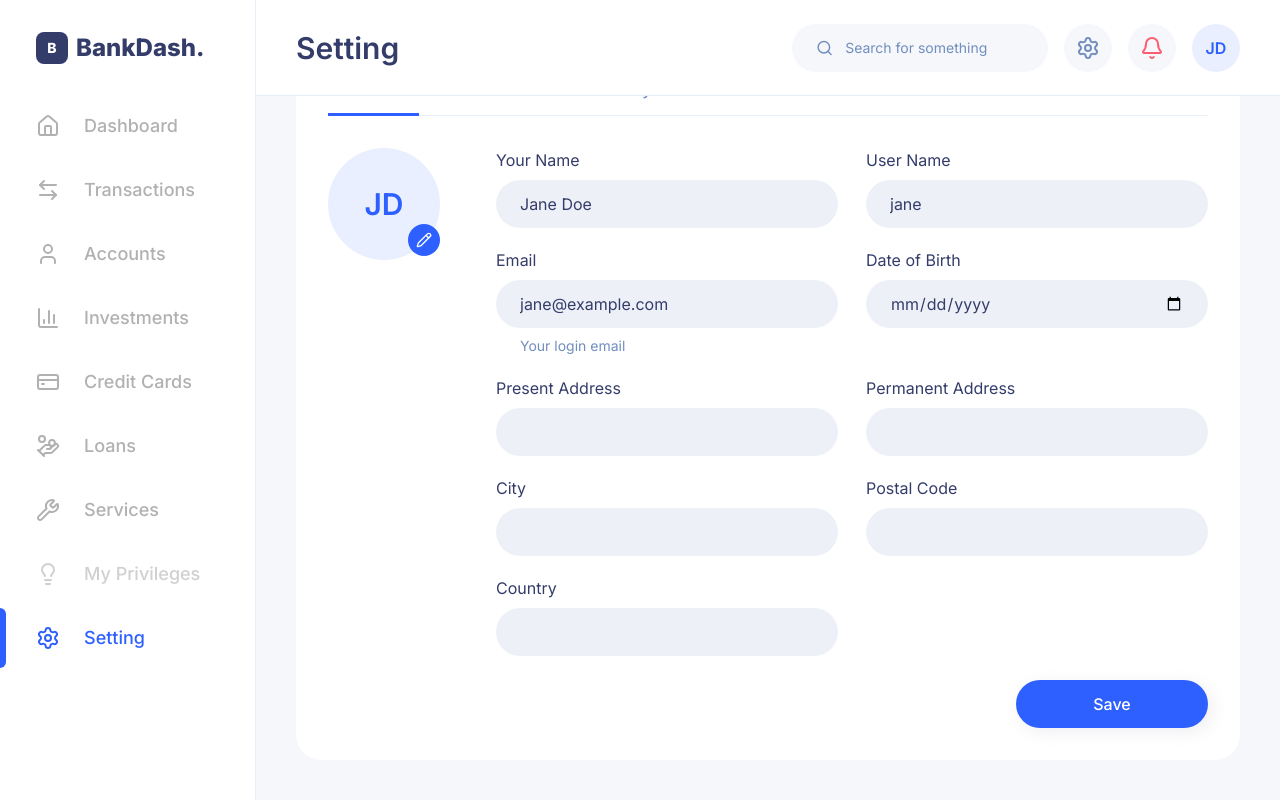
Test case: Settings › Edit Profile › shows a taken username next to the field
(page scrolled)
Expected: the field labelled "User Name" is shown, [866,180,1208,228]
Click the button "Save" at (1112, 704), box [1016,680,1208,728]
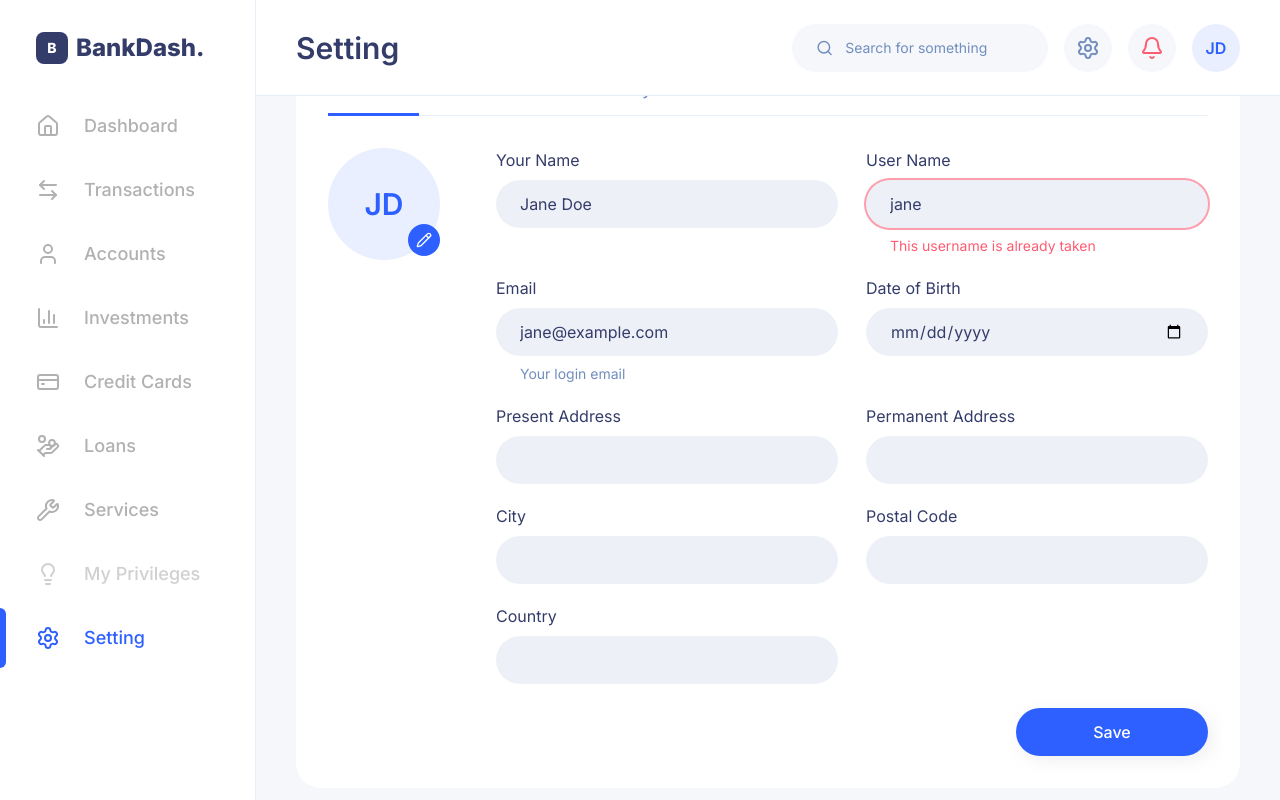
Now the text "This username is already taken" is shown, box [890,237,1096,254]
